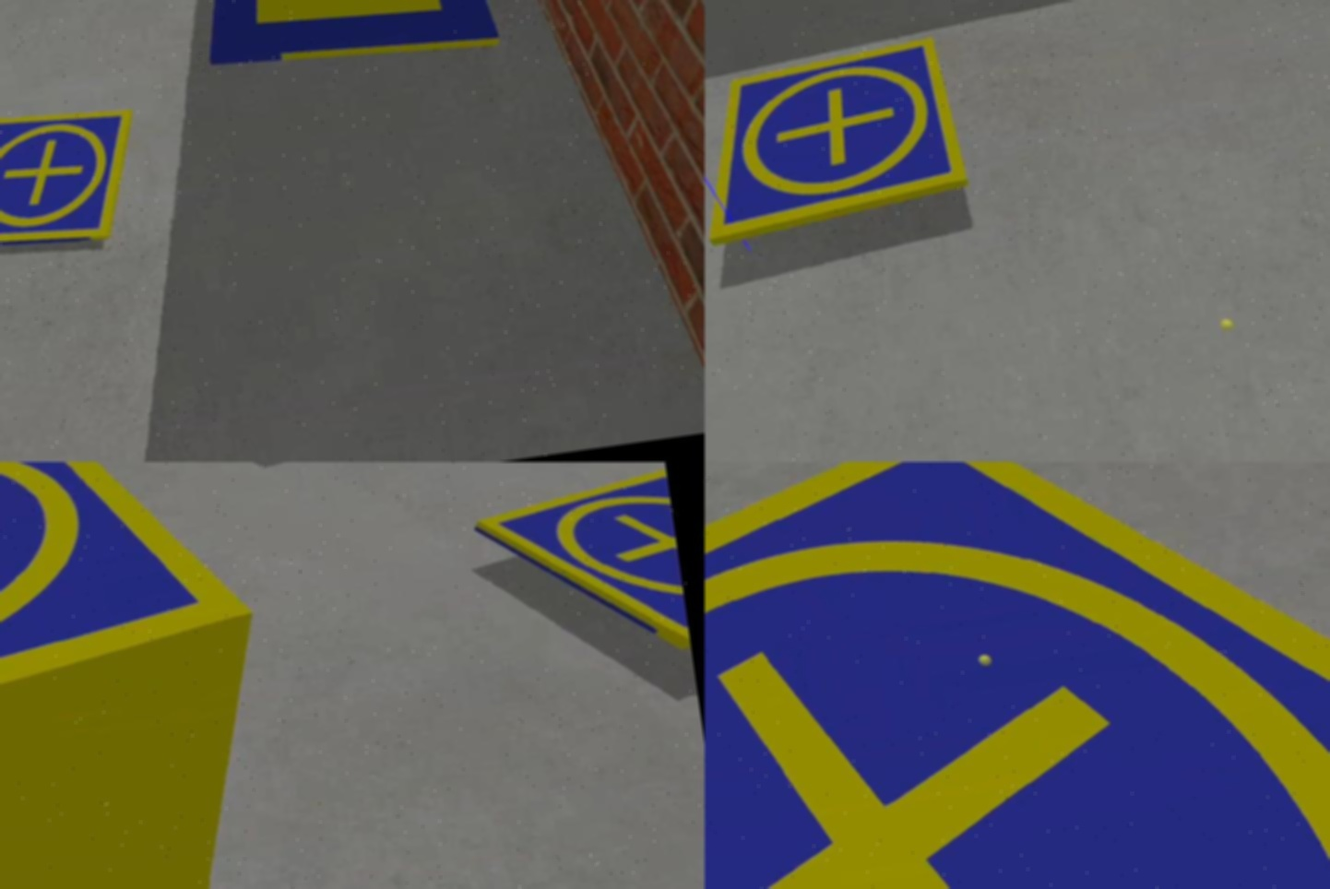large_base: (185, 1, 505, 85)
small_base: (705, 462, 1330, 889), (1, 462, 269, 838), (705, 34, 976, 249), (470, 471, 695, 679), (1, 103, 155, 266)
